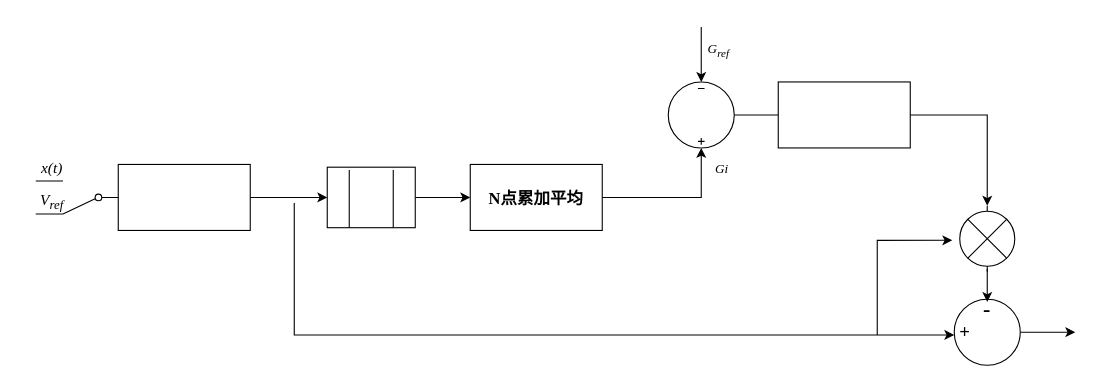
The diagram is 1103 pixels wide and 385 high, and some of its shapes have lost their labels. Each missing label, with the centre of its shape:
"Sub-ADC i" belongs at (183,196).
"滤波" belongs at (843,114).
